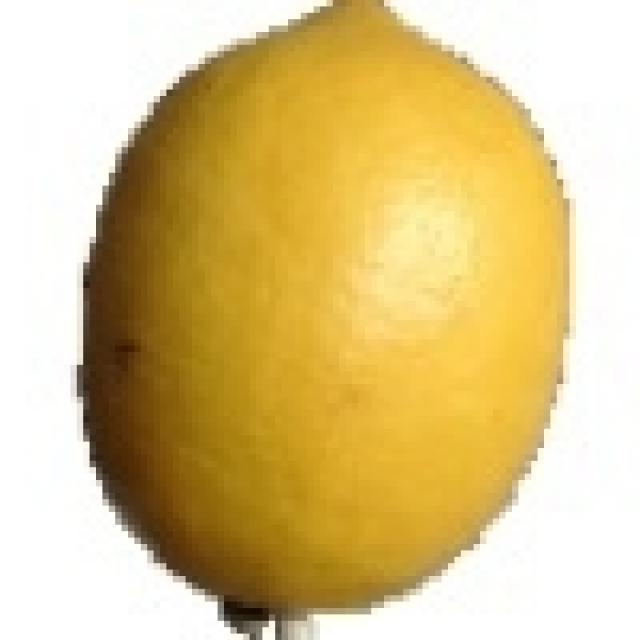lemon: (85, 0, 568, 621)
